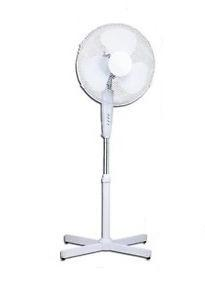fan: (71, 19, 160, 275)
